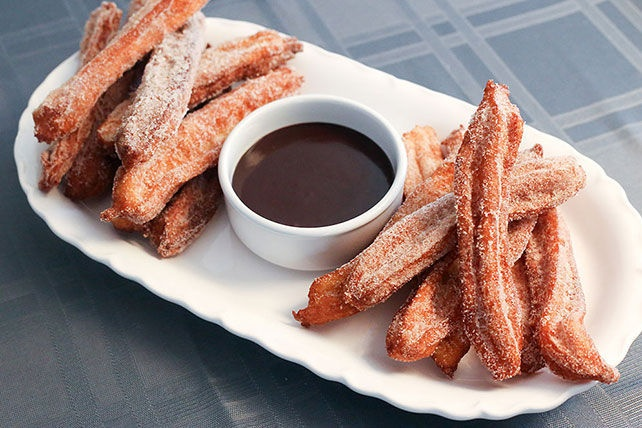background: (292, 51, 621, 257), (31, 0, 306, 174), (163, 72, 394, 152)
